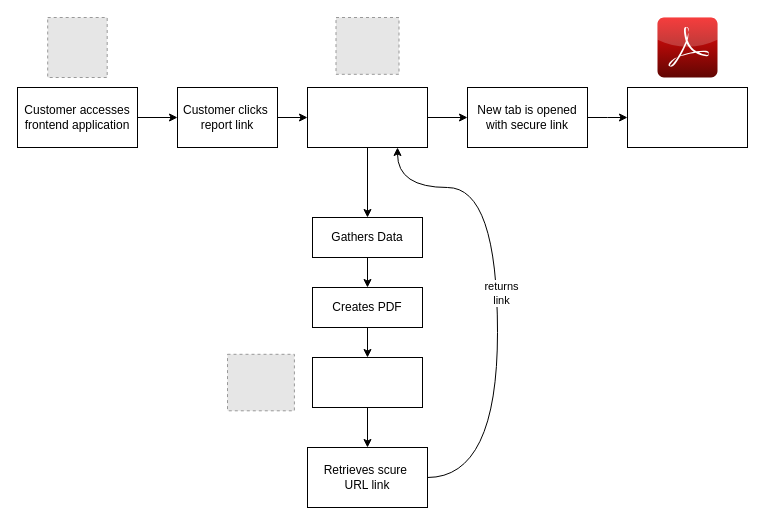
The diagram is 765 pixels wide and 525 high, and some of its shapes have lost their labels. Grey dashed boxes stand in for pictures. Each missing label, with the centre of its shape:
API call is made to get report: [367,117]
PDF is retrieved and shown: [687,117]
Stores in Azure Blob Storage: [367,382]
